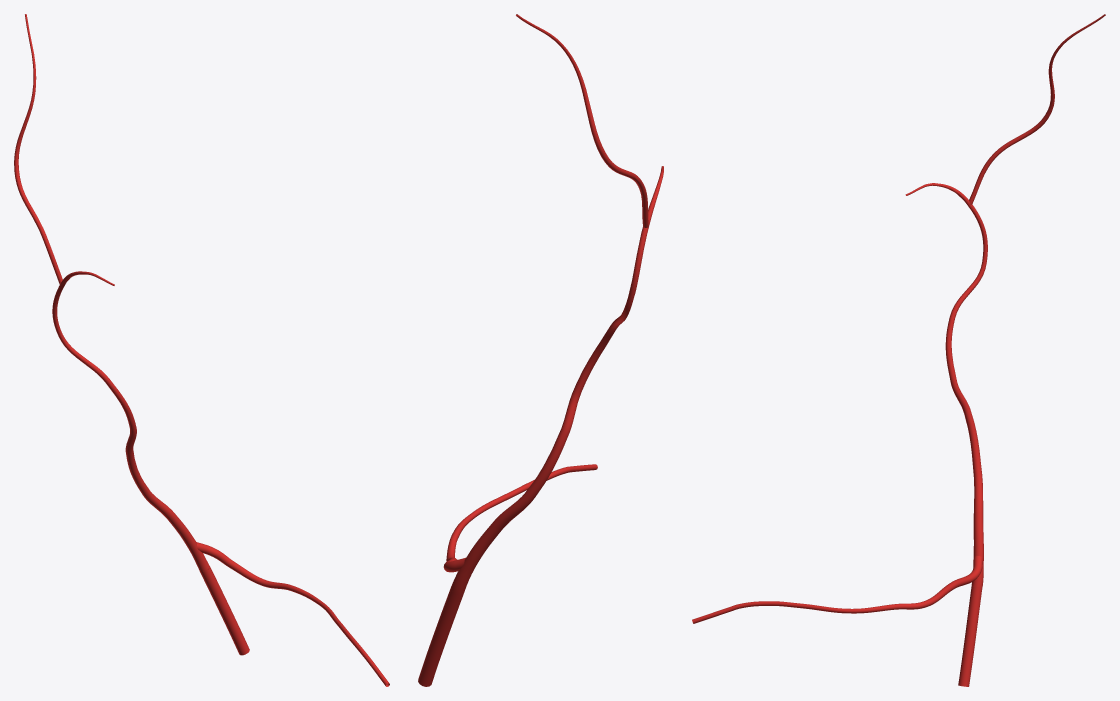
Rendered from circulatorio-anterior-division-of-retromandibular-vein-r.glb.
3 renders of one model, left to right at view 1: azimuth 30°, elevation 25°; view 2: azimuth 150°, elevation 25°; view 3: azimuth 270°, elevation 25°, orthographic. The views are drawn at different scales.
Visible parts, largest first — view 1: Superficial temporal veins.r, Maxillary veins.r, Anterior division of retromandibular vein.r, Retromandibular vein.r; view 2: Superficial temporal veins.r, Anterior division of retromandibular vein.r, Maxillary veins.r, Retromandibular vein.r; view 3: Superficial temporal veins.r, Maxillary veins.r, Anterior division of retromandibular vein.r, Retromandibular vein.r.
Part boxes in pixels (x1=…): Superficial temporal veins.r: x1=14, y1=14, x2=174, y2=519; Maxillary veins.r: x1=196, y1=542, x2=389, y2=686; Anterior division of retromandibular vein.r: x1=200, y1=567, x2=249, y2=655; Retromandibular vein.r: x1=168, y1=514, x2=209, y2=571; Superficial temporal veins.r: x1=493, y1=14, x2=663, y2=530; Anterior division of retromandibular vein.r: x1=418, y1=588, x2=464, y2=686; Maxillary veins.r: x1=443, y1=464, x2=597, y2=572; Retromandibular vein.r: x1=450, y1=522, x2=501, y2=594; Superficial temporal veins.r: x1=905, y1=14, x2=1105, y2=512; Maxillary veins.r: x1=692, y1=556, x2=982, y2=623; Anterior division of retromandibular vein.r: x1=958, y1=586, x2=982, y2=686; Retromandibular vein.r: x1=971, y1=512, x2=983, y2=587.
Size of the model in its own units: 0.0506 by 0.1429 by 0.0887.
